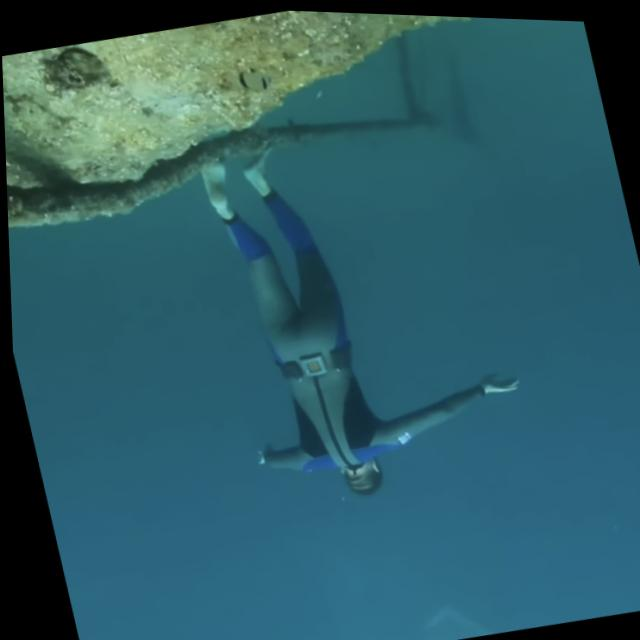human: (180, 97, 548, 527)
